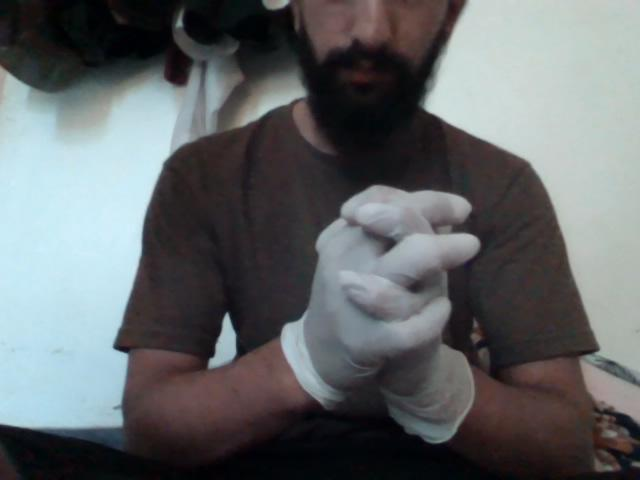gloves: (282, 169, 517, 463)
